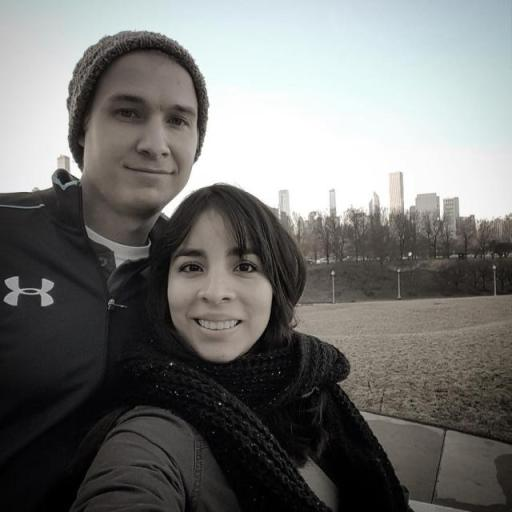Under Armour: (0, 274, 58, 308)
